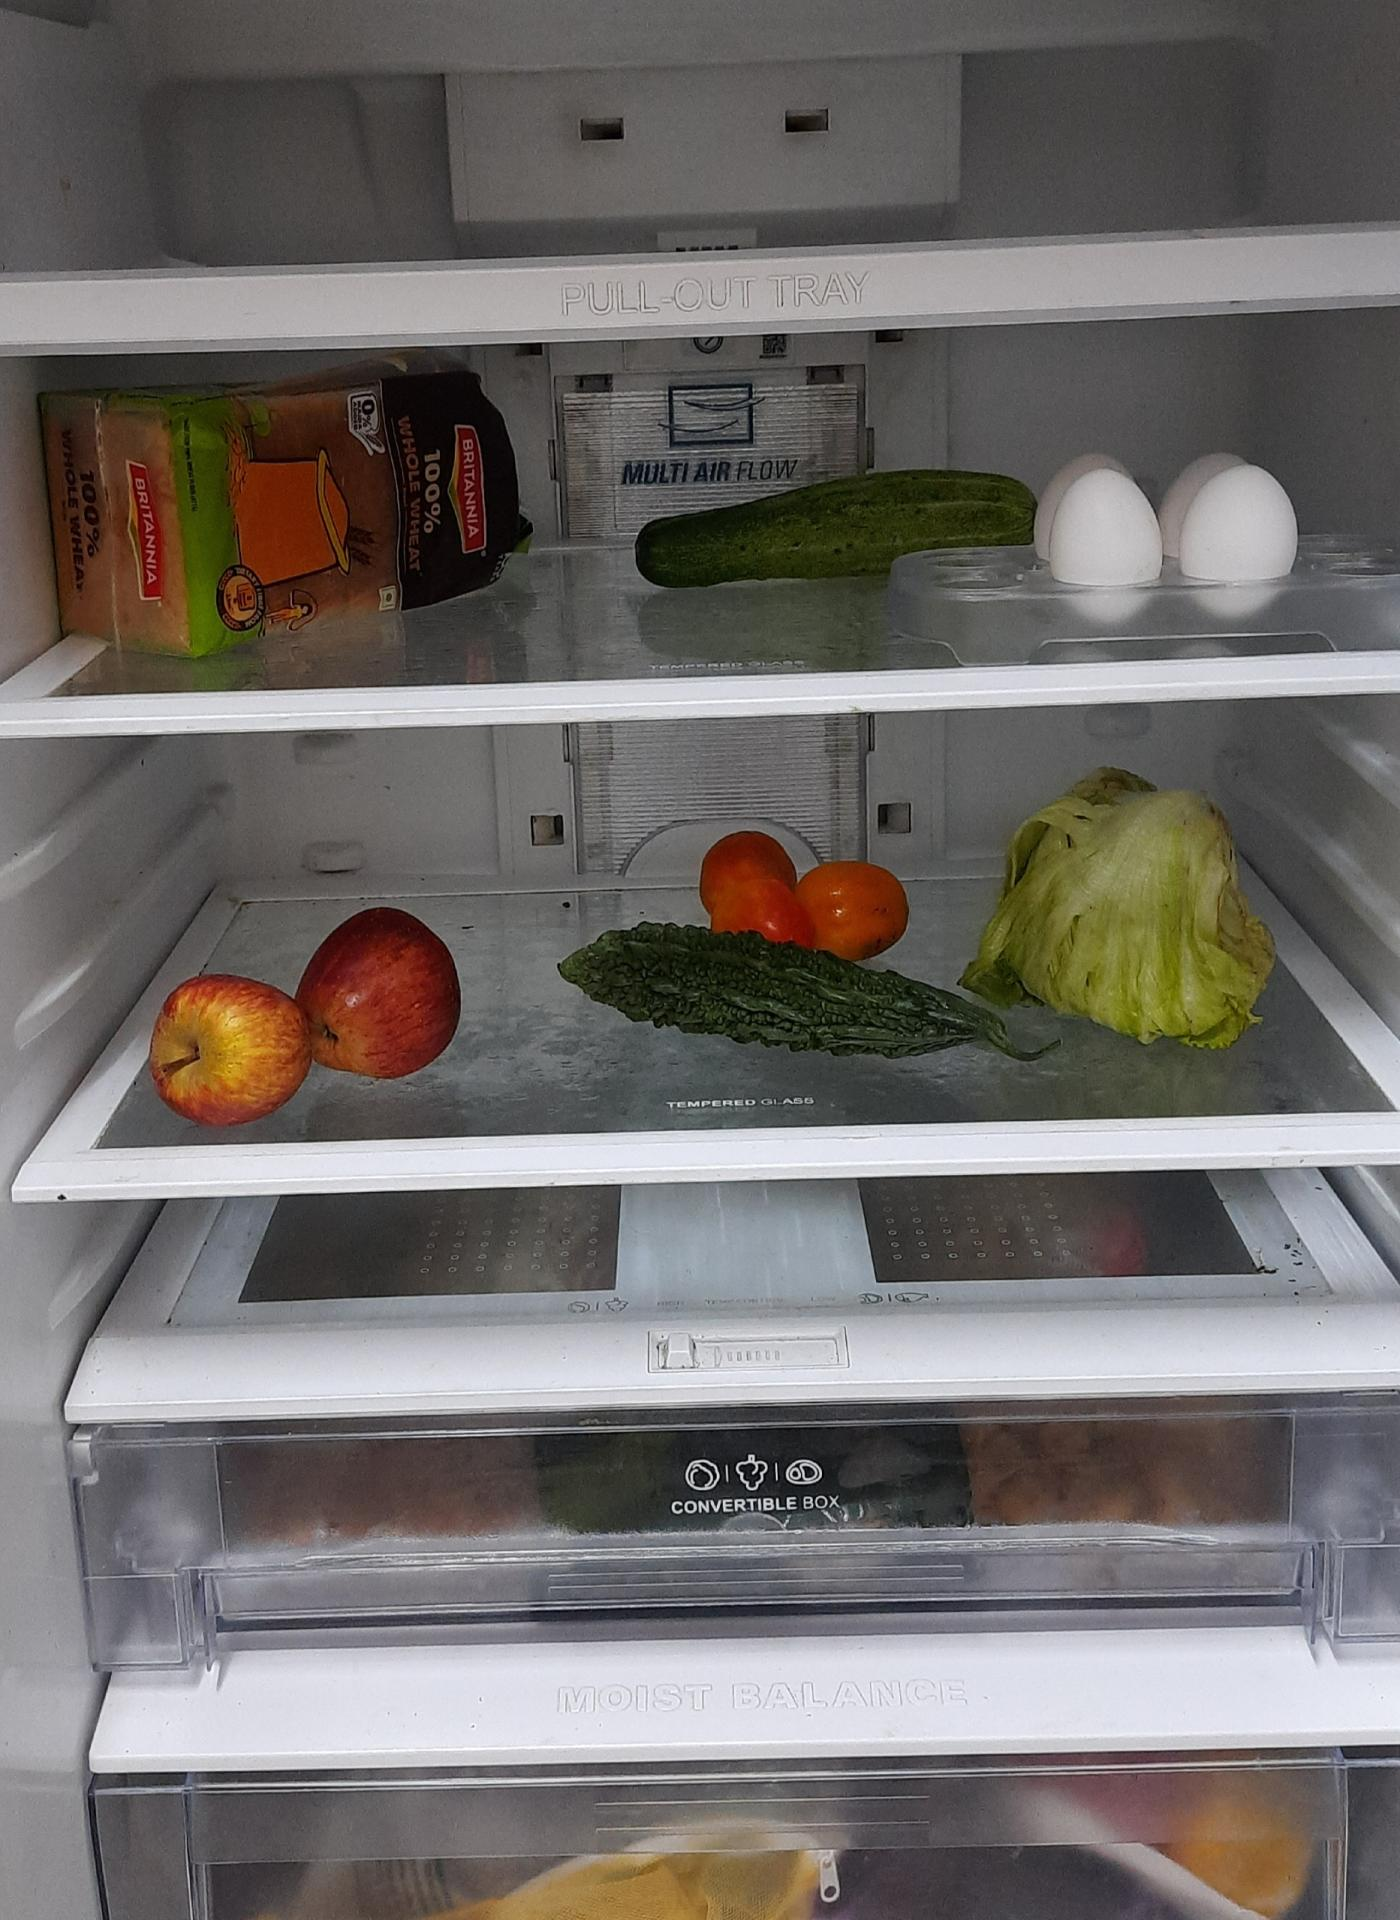apple: (131, 891, 465, 1124)
bitter gourd: (552, 918, 1047, 1066)
bread: (19, 335, 549, 671), (39, 355, 534, 650)
cucumber: (628, 477, 1045, 593)
egg: (1032, 440, 1309, 625)
lettuce: (974, 771, 1285, 1051)
tomato: (704, 832, 914, 956)
